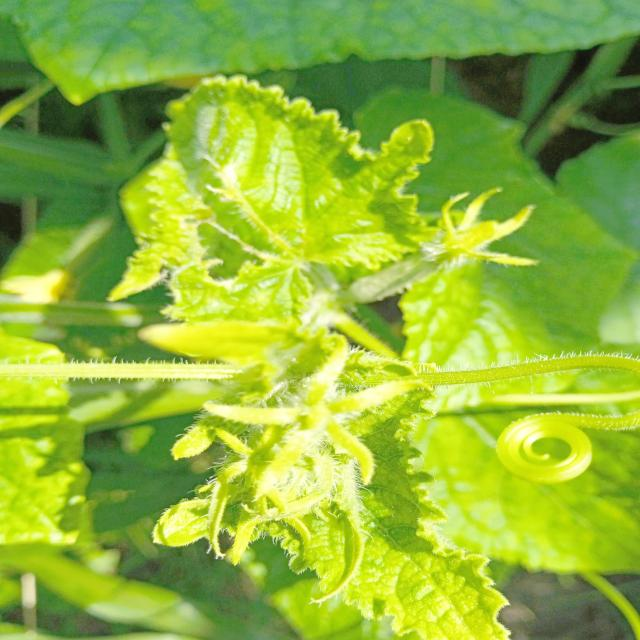Fresh-Leaf: (254, 356, 514, 640)
